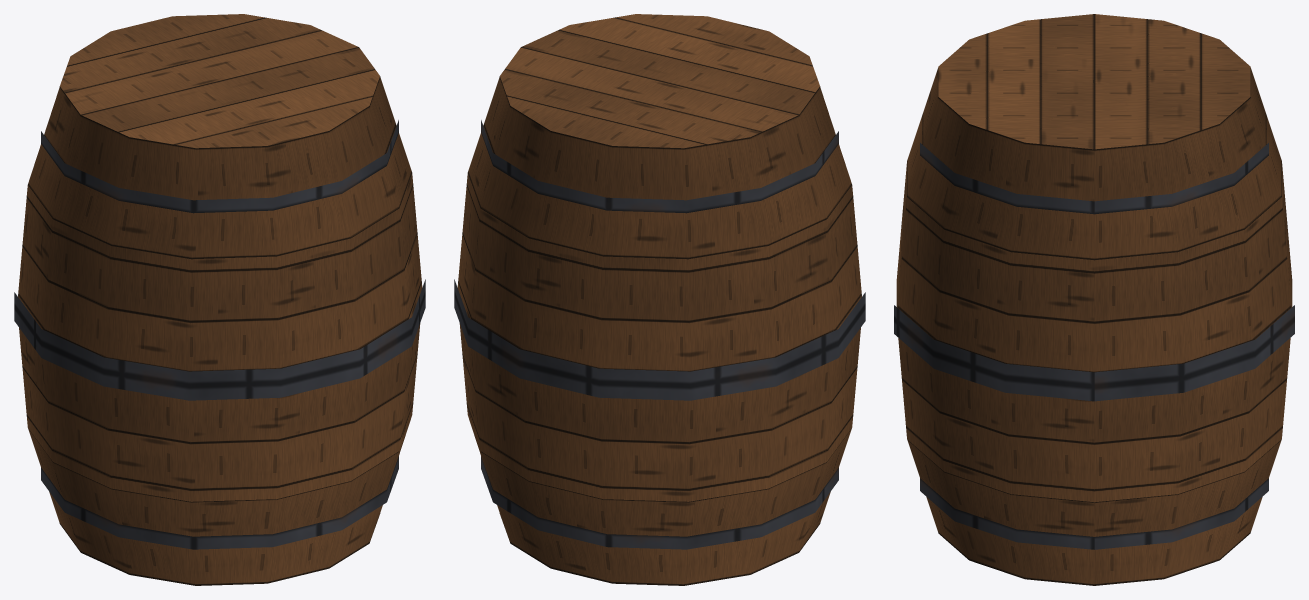
The model's file is barrel.glb.
The picture shows the model from 3 angles, left to right: view 1: azimuth 30°, elevation 25°; view 2: azimuth 150°, elevation 25°; view 3: azimuth 270°, elevation 25°; orthographic projection.
Parts seen in each view (by area): view 1: barrel; view 2: barrel; view 3: barrel.
Boxes of the visible parts, x1,y1,x2,y2 form: barrel: [14, 14, 425, 585]; barrel: [454, 14, 865, 585]; barrel: [894, 14, 1294, 585].
Bounding box in the file's own units: 0.77 × 0.902 × 0.7507.
Materials: 2 (2 with a texture image).
